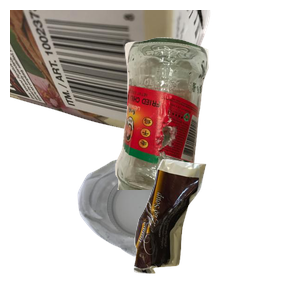cardboard: (10, 10, 213, 146)
glass: (112, 35, 300, 215)
plastic: (75, 154, 248, 300)
trash: (131, 157, 300, 300)
